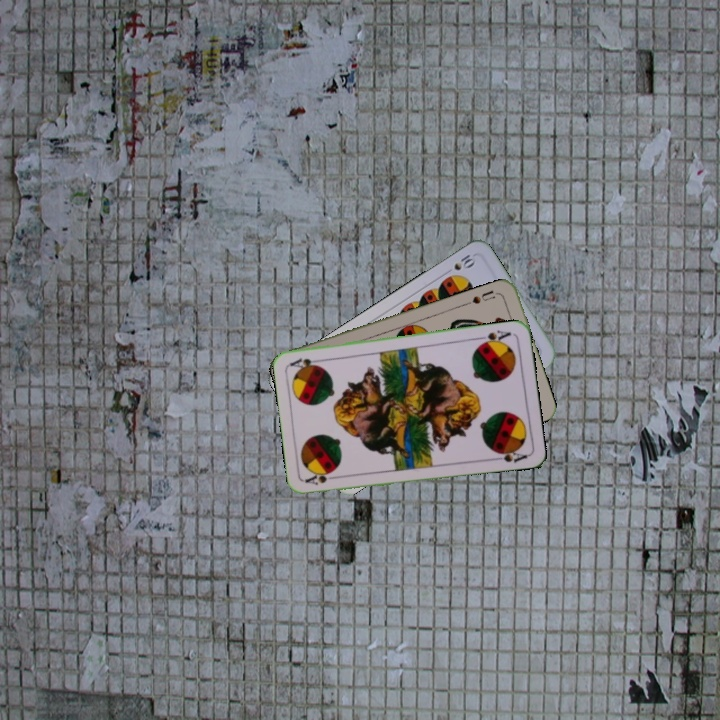S10: (440, 249, 479, 277)
SA: (474, 326, 513, 348), (301, 467, 342, 487)
SU: (468, 286, 502, 307)
